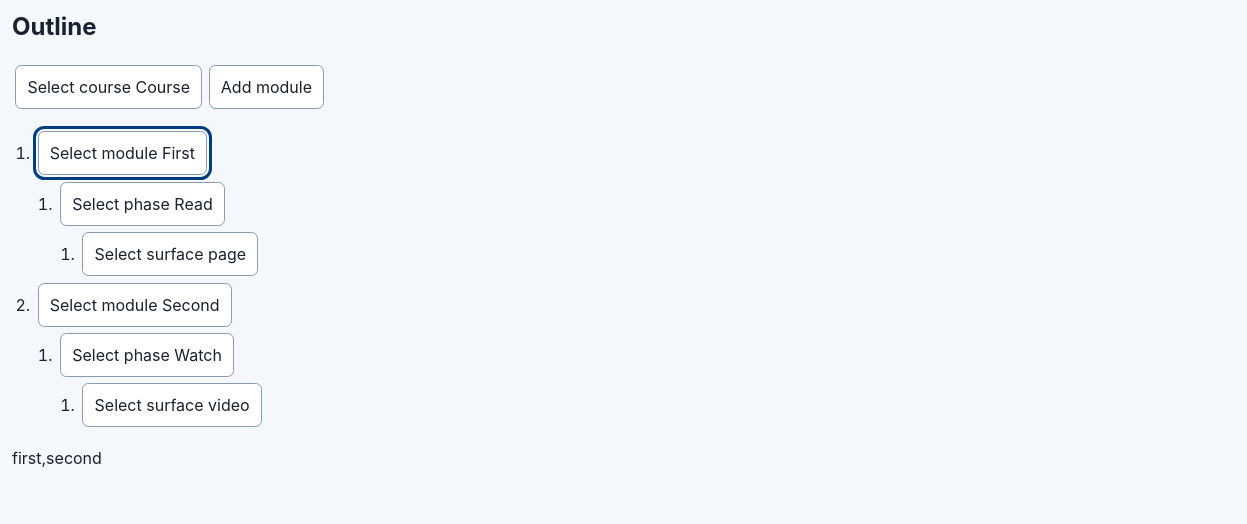
Outline › is keyboard navigable with labelled create, duplicate, delete, and move controls plus announcements and predictable focus
Press ArrowDown in the button "Select module First", box [38,131,207,175]
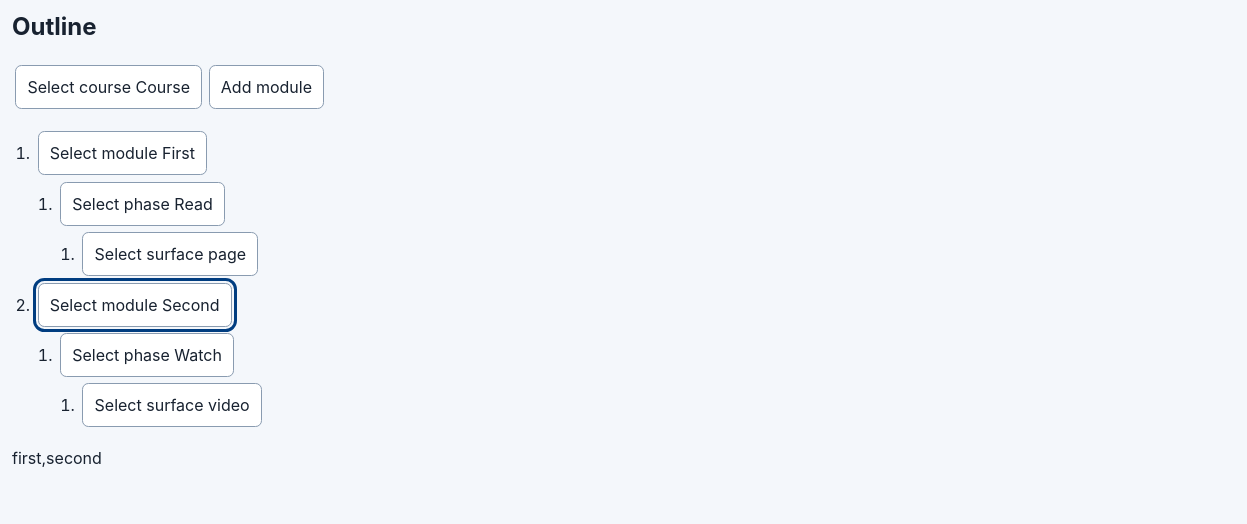
Click the button "Select module Second": (135, 304) [38,282,232,326]
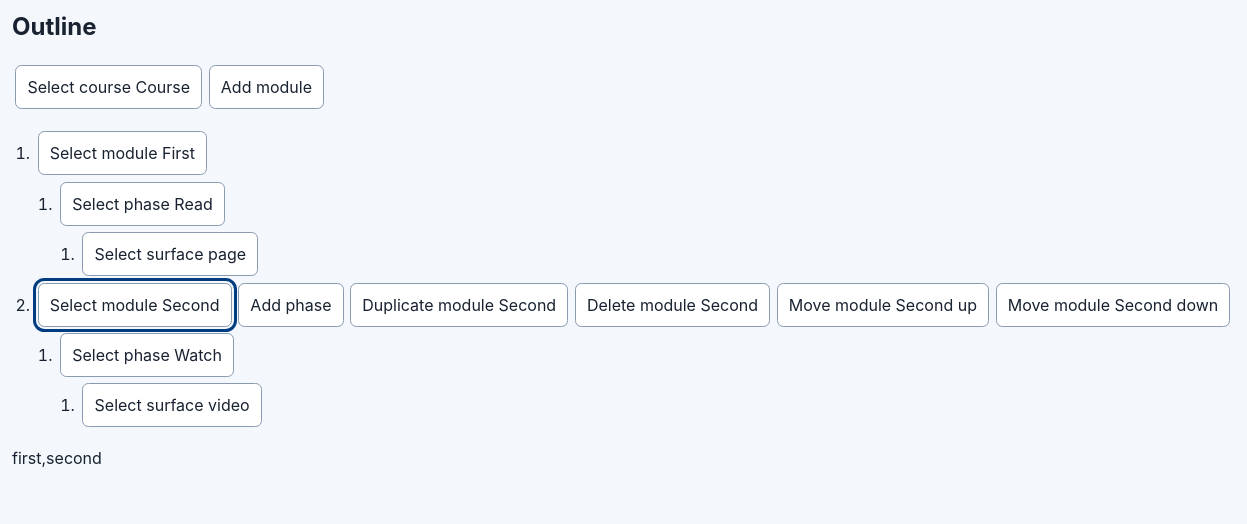
Check: the button "Add module" is shown, box [209,65,324,109]
Check: the button "Duplicate module Second" is shown, box [350,282,568,326]
Check: the button "Move module Second up" is shown
Click the button "Move module Second up": (883, 304) [777,282,989,326]
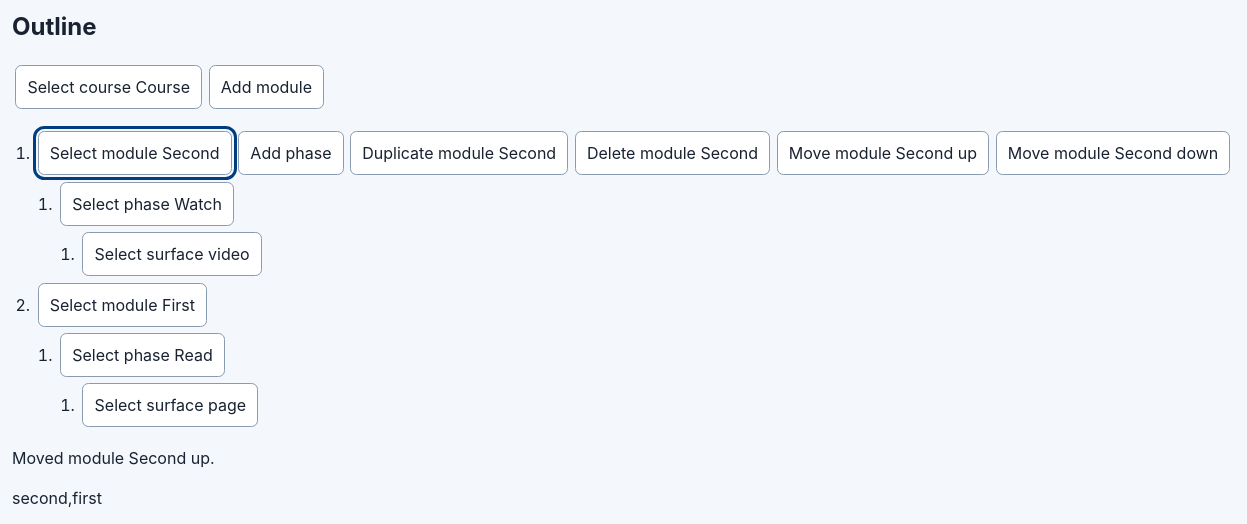
Check: the message reads "Moved module Second up.", box [12,448,215,468]
Click the button "Delete module Second": (672, 153) [575,131,770,175]
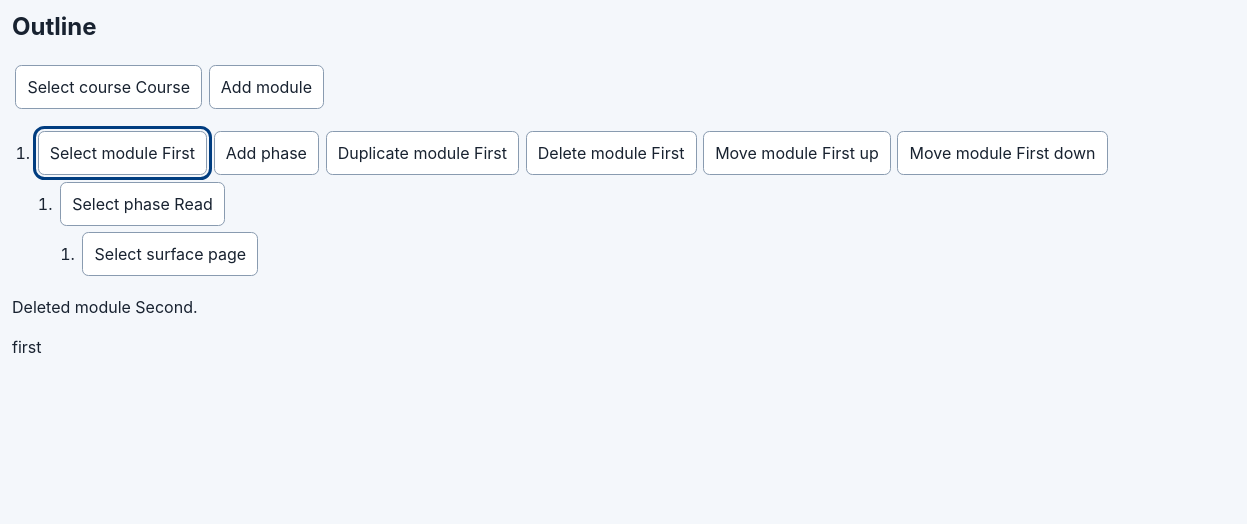
Check: the text "first" is shown, box [12,337,42,357]
Check: the message reads "Deleted module Second.", box [12,297,198,317]
